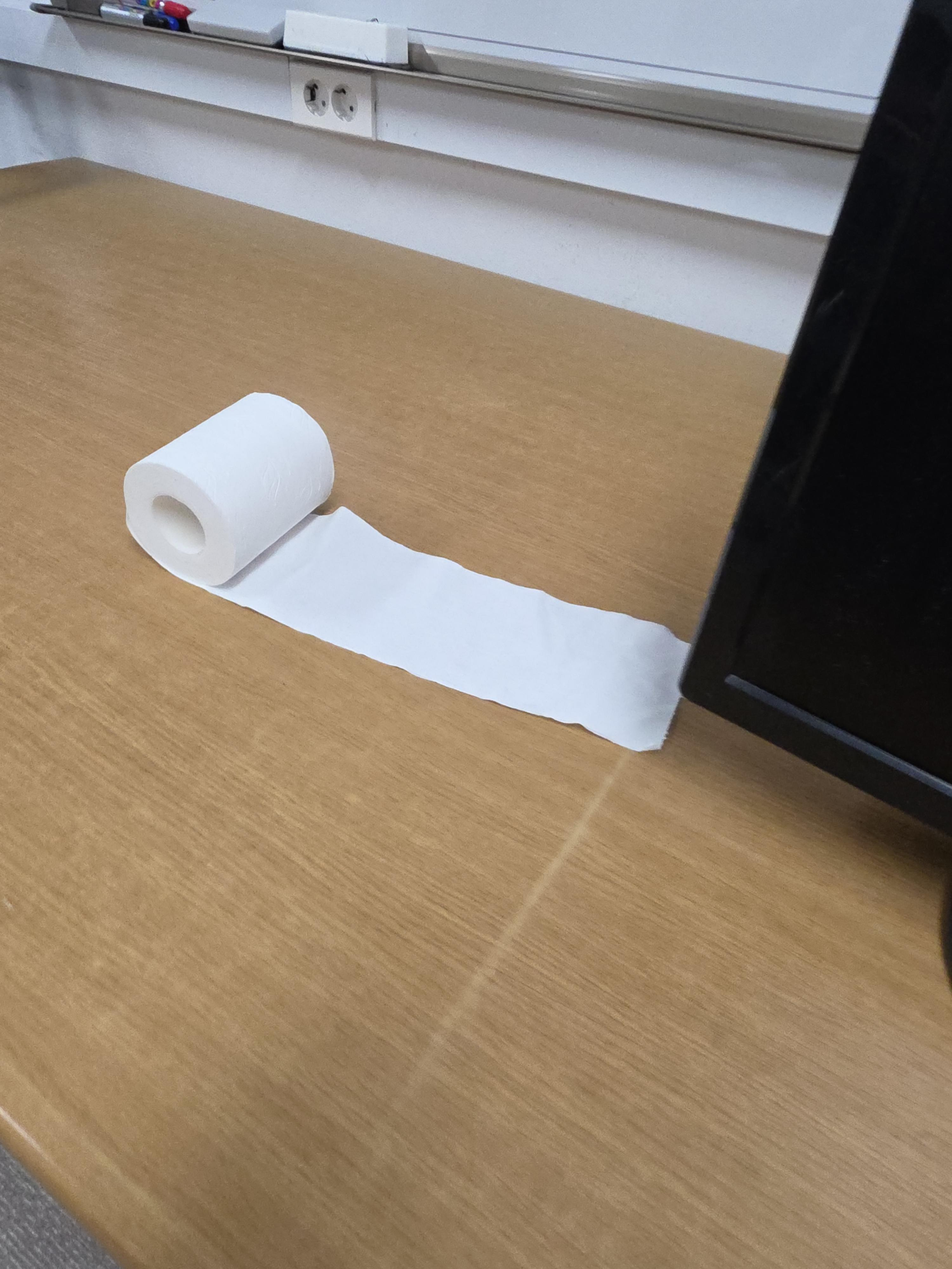tissue: (123, 392, 692, 752)
